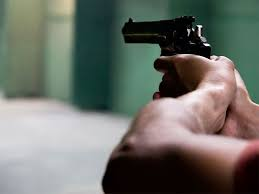gun: (118, 14, 214, 60)
